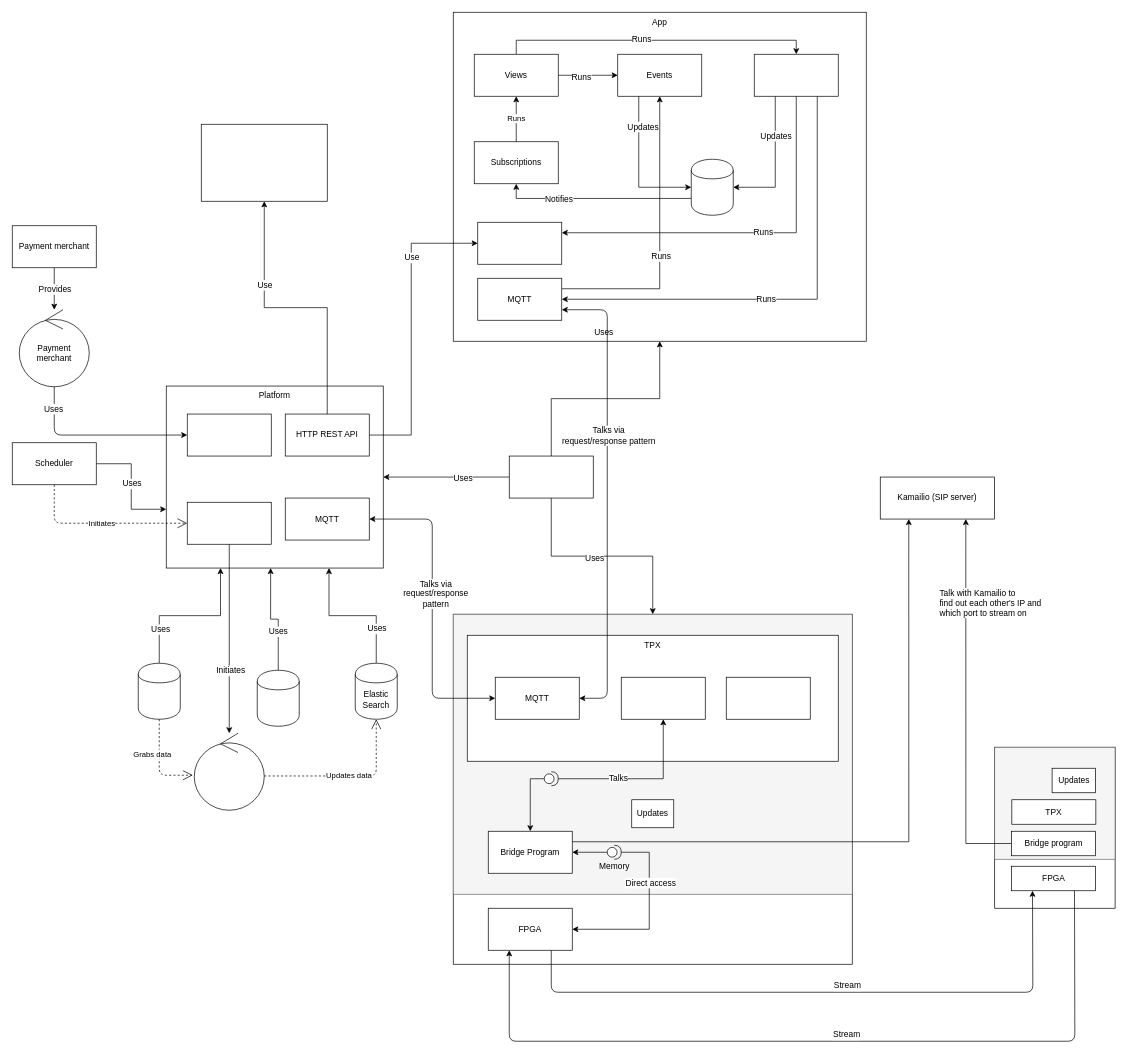
Some shapes in this 1128 by 1059 pixel diagram are drawn without their labels. The centre of each missing label's shape, as x and y in pixels:
"App db" goes at (712,187).
"Backoffice" goes at (264,162).
"Cache" goes at (278,698).
"FX" goes at (796,75).
"HTTP" goes at (519,243).
"IPC" goes at (663,698).
"MQTT Broker" goes at (551,476).
"Network" goes at (768,698).
"Payment" goes at (229,434).
"Postgres" goes at (159,691).
"Serial port" goes at (551,778).
"Synchronizer" goes at (229,523).
"Synchronizes between PG and ES" goes at (229,771).
